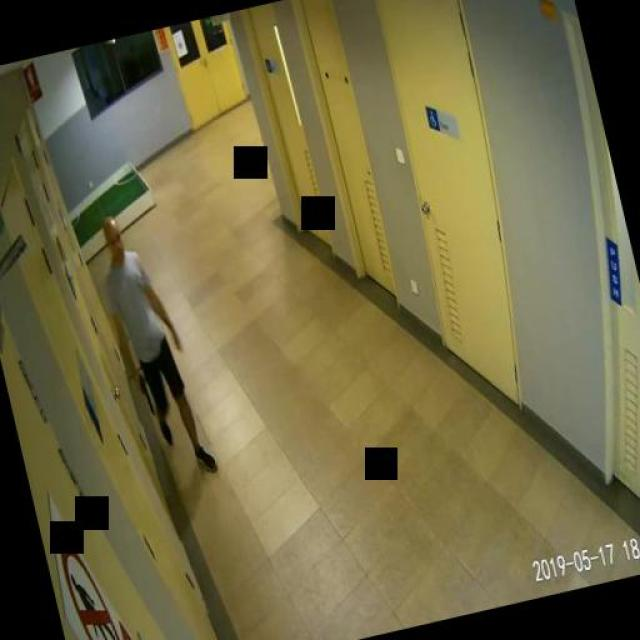gun: (132, 372, 152, 417)
